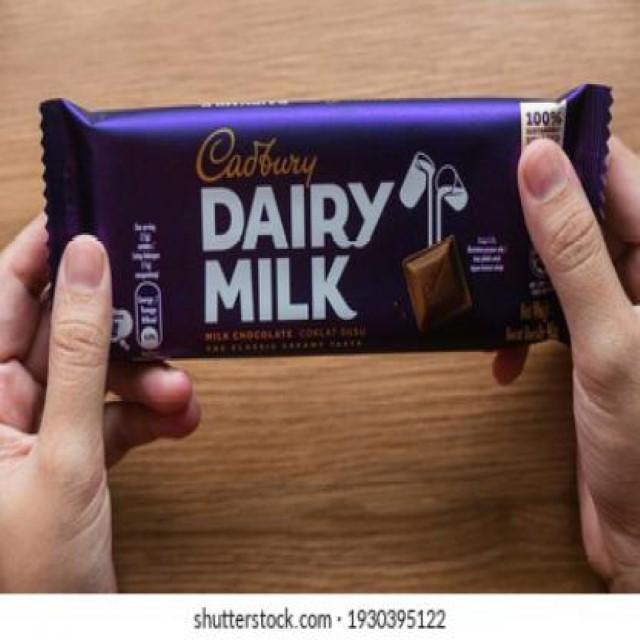cadbury_chocolate: (43, 99, 600, 348)
